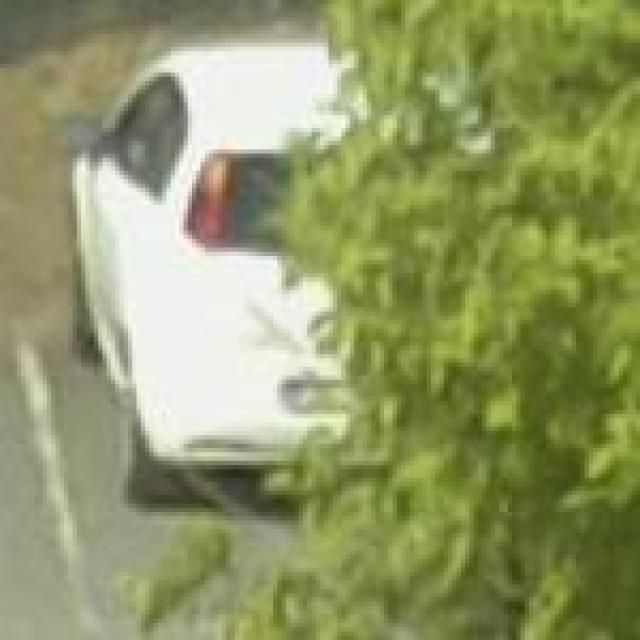cars-sUYr: (62, 16, 537, 534)
